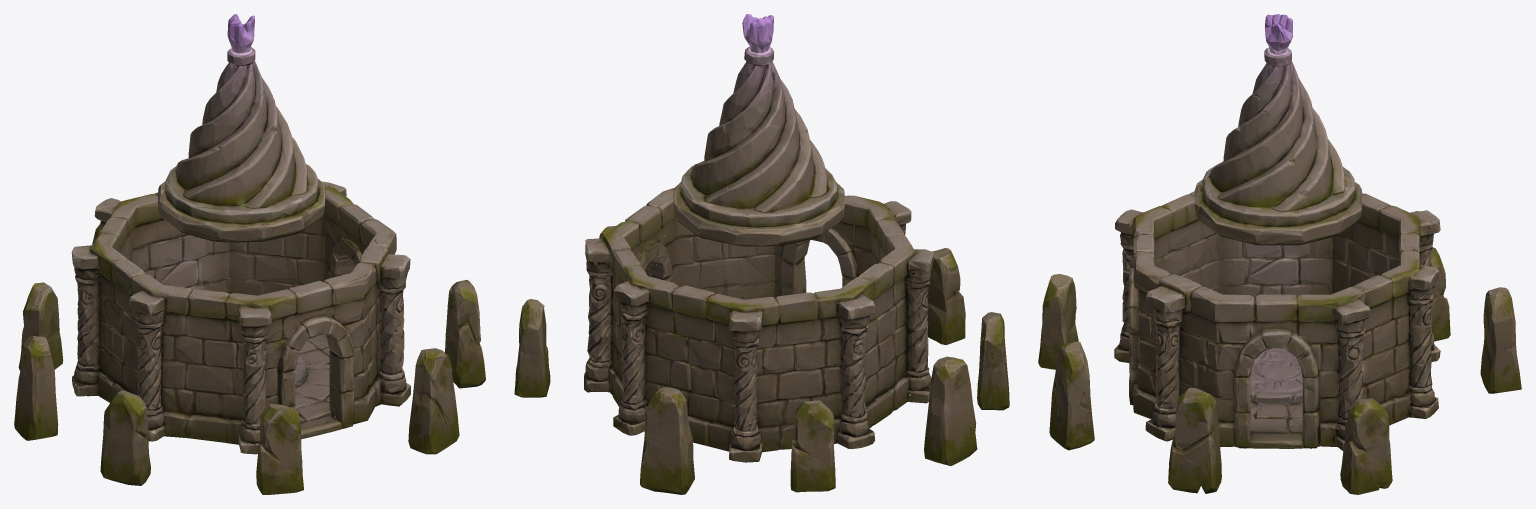
Rendered from sanctuary_t2.glb.
The picture shows the model from 3 angles, left to right: view 1: azimuth 30°, elevation 25°; view 2: azimuth 150°, elevation 25°; view 3: azimuth 270°, elevation 25°; orthographic projection. The views are drawn at different scales.
Visible parts, largest first — view 1: tripo_part_12, tripo_part_11, tripo_part_1, tripo_part_4, tripo_part_0, tripo_part_14, tripo_part_5, tripo_part_6, tripo_part_2, tripo_part_8, tripo_part_15, tripo_part_9 (+3 smaller); view 2: tripo_part_12, tripo_part_11, tripo_part_21, tripo_part_14, tripo_part_15, tripo_part_19, tripo_part_18, tripo_part_20, tripo_part_8, tripo_part_16, tripo_part_0, tripo_part_17 (+3 smaller); view 3: tripo_part_12, tripo_part_11, tripo_part_6, tripo_part_13, tripo_part_17, tripo_part_5, tripo_part_1, tripo_part_19, tripo_part_21, tripo_part_9, tripo_part_16, tripo_part_0 (+3 smaller).
Boxes of the visible parts, left/top/right/bottom form: tripo_part_12: left=84, top=185, right=396, bottom=444; tripo_part_11: left=158, top=14, right=325, bottom=242; tripo_part_1: left=408, top=348, right=459, bottom=454; tripo_part_4: left=100, top=390, right=150, bottom=485; tripo_part_0: left=256, top=404, right=303, bottom=494; tripo_part_14: left=14, top=336, right=58, bottom=440; tripo_part_5: left=378, top=254, right=410, bottom=406; tripo_part_6: left=445, top=280, right=485, bottom=388; tripo_part_2: left=238, top=306, right=271, bottom=454; tripo_part_8: left=129, top=290, right=165, bottom=441; tripo_part_15: left=71, top=245, right=100, bottom=396; tripo_part_9: left=295, top=341, right=334, bottom=426; tripo_part_12: left=593, top=188, right=915, bottom=452; tripo_part_11: left=673, top=14, right=844, bottom=246; tripo_part_21: left=640, top=387, right=694, bottom=494; tripo_part_14: left=924, top=356, right=977, bottom=465; tripo_part_15: left=837, top=294, right=875, bottom=448; tripo_part_19: left=613, top=281, right=649, bottom=435; tripo_part_18: left=728, top=313, right=762, bottom=462; tripo_part_20: left=790, top=400, right=835, bottom=492; tripo_part_8: left=904, top=249, right=933, bottom=403; tripo_part_16: left=584, top=238, right=612, bottom=392; tripo_part_0: left=927, top=248, right=965, bottom=344; tripo_part_17: left=514, top=299, right=550, bottom=397; tripo_part_12: left=1128, top=191, right=1433, bottom=448; tripo_part_11: left=1194, top=14, right=1362, bottom=245; tripo_part_6: left=1168, top=388, right=1221, bottom=493; tripo_part_13: left=1234, top=329, right=1327, bottom=448; tripo_part_17: left=1340, top=398, right=1392, bottom=494; tripo_part_5: left=1145, top=287, right=1185, bottom=441; tripo_part_1: left=1049, top=341, right=1094, bottom=450; tripo_part_19: left=1406, top=265, right=1439, bottom=418; tripo_part_21: left=1480, top=287, right=1521, bottom=393; tripo_part_9: left=1250, top=348, right=1302, bottom=420; tripo_part_16: left=1318, top=299, right=1370, bottom=450; tripo_part_0: left=1038, top=274, right=1078, bottom=369.
Bounding box in the file's own units: 0.9787 × 0.8535 × 0.9799.
Materials: 22 (22 with a texture image).
